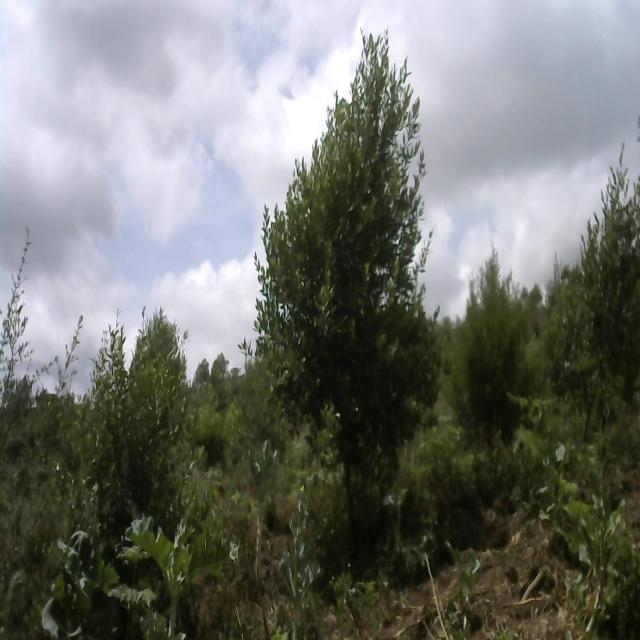Juniperus procesera: (454, 229, 530, 443)
Olea europea -africana-: (256, 41, 450, 523), (78, 320, 200, 542), (572, 160, 640, 420)
